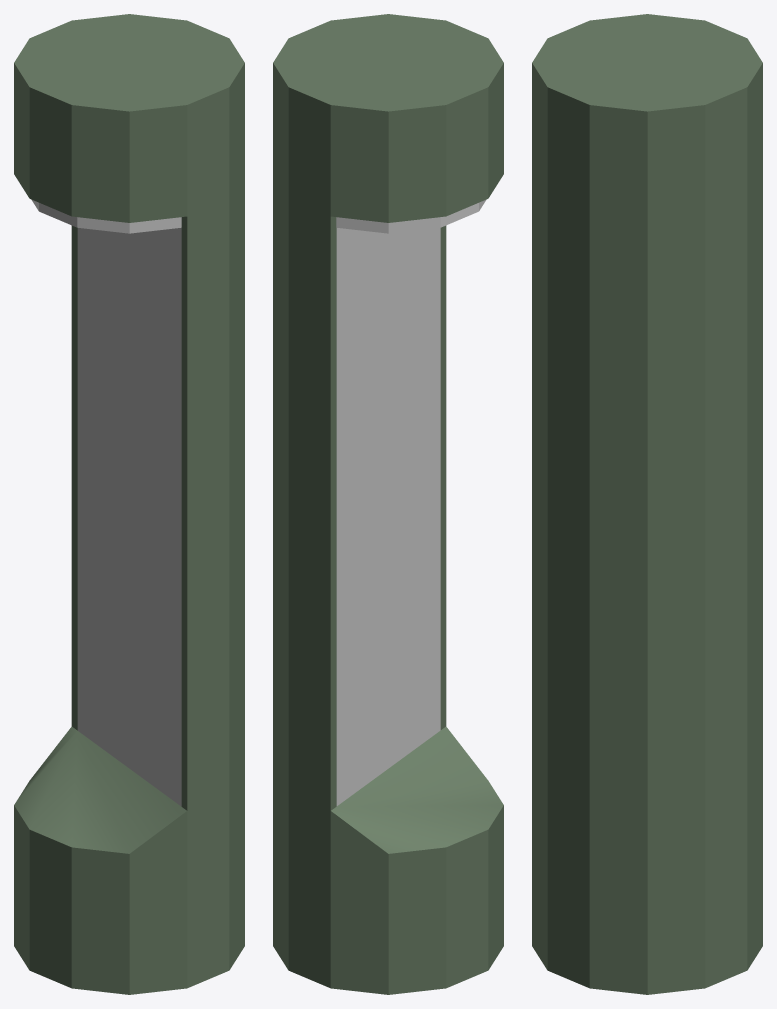
Rendered from FloorLamo.fbx.
The picture shows the model from 3 angles, left to right: view 1: azimuth 30°, elevation 25°; view 2: azimuth 150°, elevation 25°; view 3: azimuth 270°, elevation 25°; orthographic projection.
Parts seen in each view (by area): view 1: FloorLamp2; view 2: FloorLamp2; view 3: FloorLamp2.
Part boxes in pixels (left/top/right/bottom): FloorLamp2: left=14, top=14, right=244, bottom=994; FloorLamp2: left=273, top=14, right=503, bottom=994; FloorLamp2: left=532, top=14, right=762, bottom=994.
Bounding box in the file's own units: 2 × 8.44 × 2.
